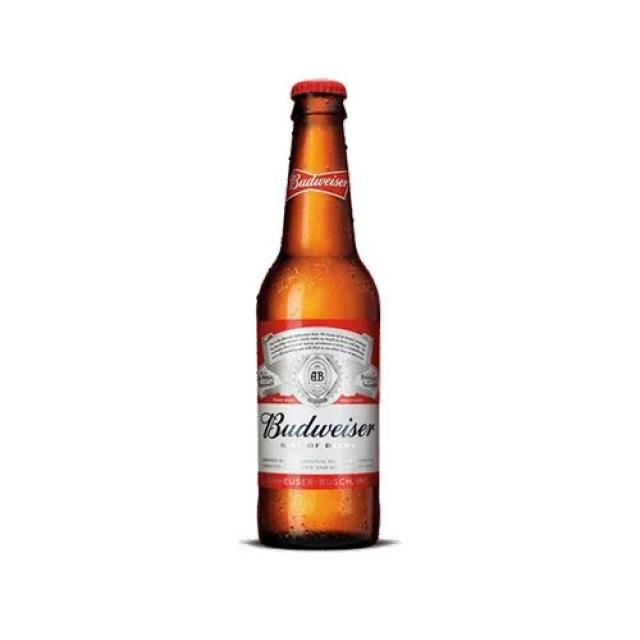Bottle: (251, 76, 383, 548)
